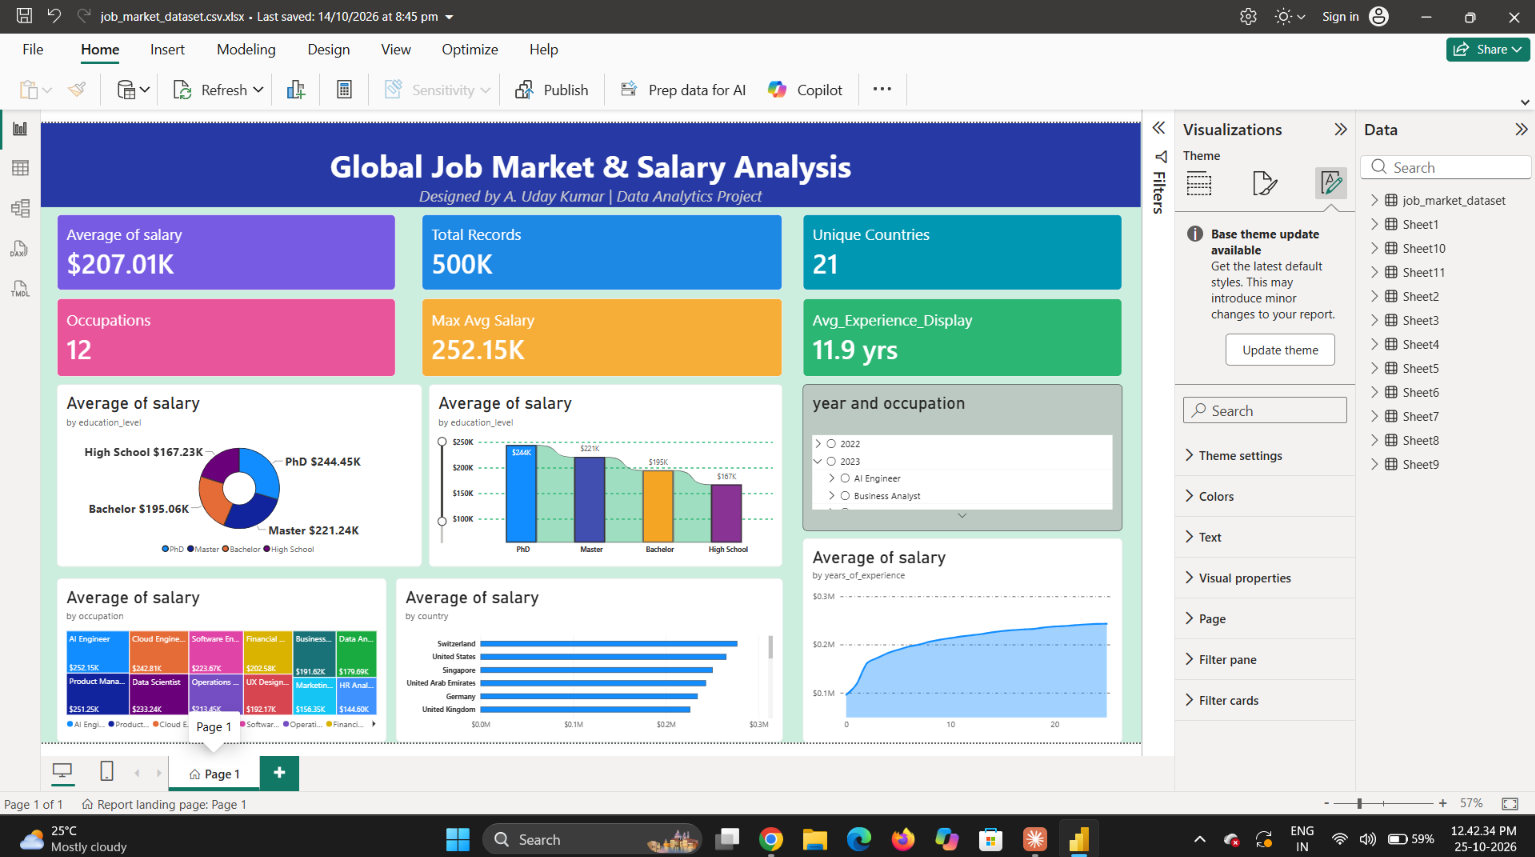

The dashboard page shown, as its layout file describes it:
{"tool":"powerbi","page":{"name":"Page 1","canvas":[1920,1080],"ordinal":0},"visuals":[{"type":"cardVisual","fields":{"Data":["job_market_dataset.Total Records"]},"box":[664.1,159.3,629.8,133.9],"z":0},{"type":"cardVisual","fields":{"Data":["Avg(job_market_dataset.salary)"]},"box":[27.1,159.3,591.8,133.9],"z":1},{"type":"cardVisual","fields":{"Data":["job_market_dataset.Unique Countries"]},"box":[1328.3,159.3,557.4,133.9],"z":2},{"type":"treemap","fields":{"Group":["job_market_dataset.occupation"],"Values":["Avg(job_market_dataset.salary)"]},"box":[27.1,794.4,575.5,285.9],"z":3},{"type":"barChart","fields":{"Category":["job_market_dataset.country"],"Y":["Avg(job_market_dataset.salary)"]},"box":[618.9,794.4,675,285.9],"z":4},{"type":"columnChart","fields":{"Category":["job_market_dataset.education_level"],"Y":["Avg(job_market_dataset.salary)"]},"box":[676.8,456,617.1,318.5],"z":5},{"type":"lineChart","fields":{"Category":["job_market_dataset.years_of_experience"],"Y":["Avg(job_market_dataset.salary)"]},"box":[1328.3,723.9,557.4,356.5],"z":6},{"type":"listSlicer","fields":{"Values":["job_market_dataset.year","job_market_dataset.occupation","job_market_dataset.education_level","job_market_dataset.country"]},"box":[1328.3,456,557.4,256],"z":7},{"type":"shape","box":[0,0,1918.2,146.6],"z":8},{"type":"textbox","box":[0,0,1918.2,146.6],"z":9},{"type":"cardVisual","fields":{"Data":["job_market_dataset.Occupations"]},"box":[27.1,305.8,591.8,137.5],"z":10},{"type":"cardVisual","fields":{"Data":["job_market_dataset.Max Avg Salary"]},"box":[664.1,305.8,629.8,137.5],"z":11},{"type":"cardVisual","fields":{"Data":["job_market_dataset.Avg_Experience_Display"]},"box":[1328.3,305.8,557.4,137.5],"z":12},{"type":"donutChart","fields":{"Category":["job_market_dataset.education_level"],"Y":["Avg(job_market_dataset.salary)"]},"box":[27.1,456,637,318.5],"z":13}]}

Visuals, with their boxes on the page's 1920x1080 design canvas (x1, y1, x2, y2). These are canvas units, not pixel positions in the 1535x857 screenshot, which may show the page scaled, cropped or inside an application window:
cardVisual - job_market_dataset.Total Records: region(664, 159, 1294, 293)
cardVisual - Avg(job_market_dataset.salary): region(27, 159, 619, 293)
cardVisual - job_market_dataset.Unique Countries: region(1328, 159, 1886, 293)
treemap - job_market_dataset.occupation x Avg(job_market_dataset.salary): region(27, 794, 603, 1080)
barChart - job_market_dataset.country x Avg(job_market_dataset.salary): region(619, 794, 1294, 1080)
columnChart - job_market_dataset.education_level x Avg(job_market_dataset.salary): region(677, 456, 1294, 774)
lineChart - job_market_dataset.years_of_experience x Avg(job_market_dataset.salary): region(1328, 724, 1886, 1080)
listSlicer - job_market_dataset.year x job_market_dataset.occupation: region(1328, 456, 1886, 712)
shape: region(0, 0, 1918, 147)
textbox: region(0, 0, 1918, 147)
cardVisual - job_market_dataset.Occupations: region(27, 306, 619, 443)
cardVisual - job_market_dataset.Max Avg Salary: region(664, 306, 1294, 443)
cardVisual - job_market_dataset.Avg_Experience_Display: region(1328, 306, 1886, 443)
donutChart - job_market_dataset.education_level x Avg(job_market_dataset.salary): region(27, 456, 664, 774)
